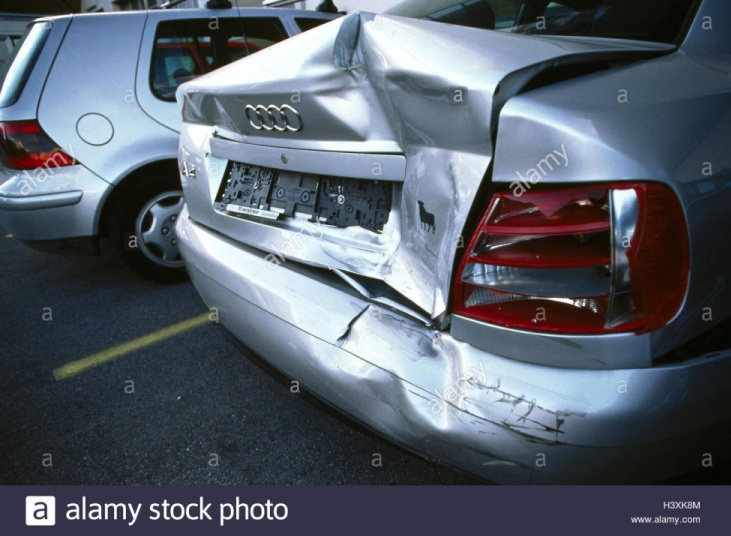audi: (240, 99, 312, 139)
